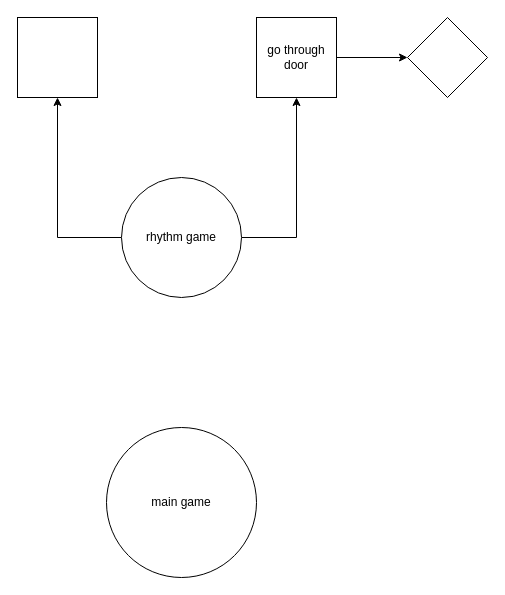
This 505x595 diagram has some shape labels left out. Each missing label, with the centre of its shape:
find hidden room: the point at 57,57
TODO achievement: the point at 447,57
